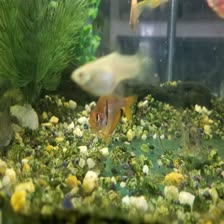Guppy: (65, 39, 148, 90)
Kiros: (154, 118, 213, 163)
Transparente: (87, 90, 137, 141)
